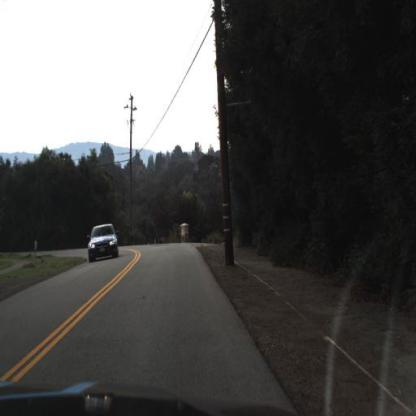car: (87, 222, 120, 264)
